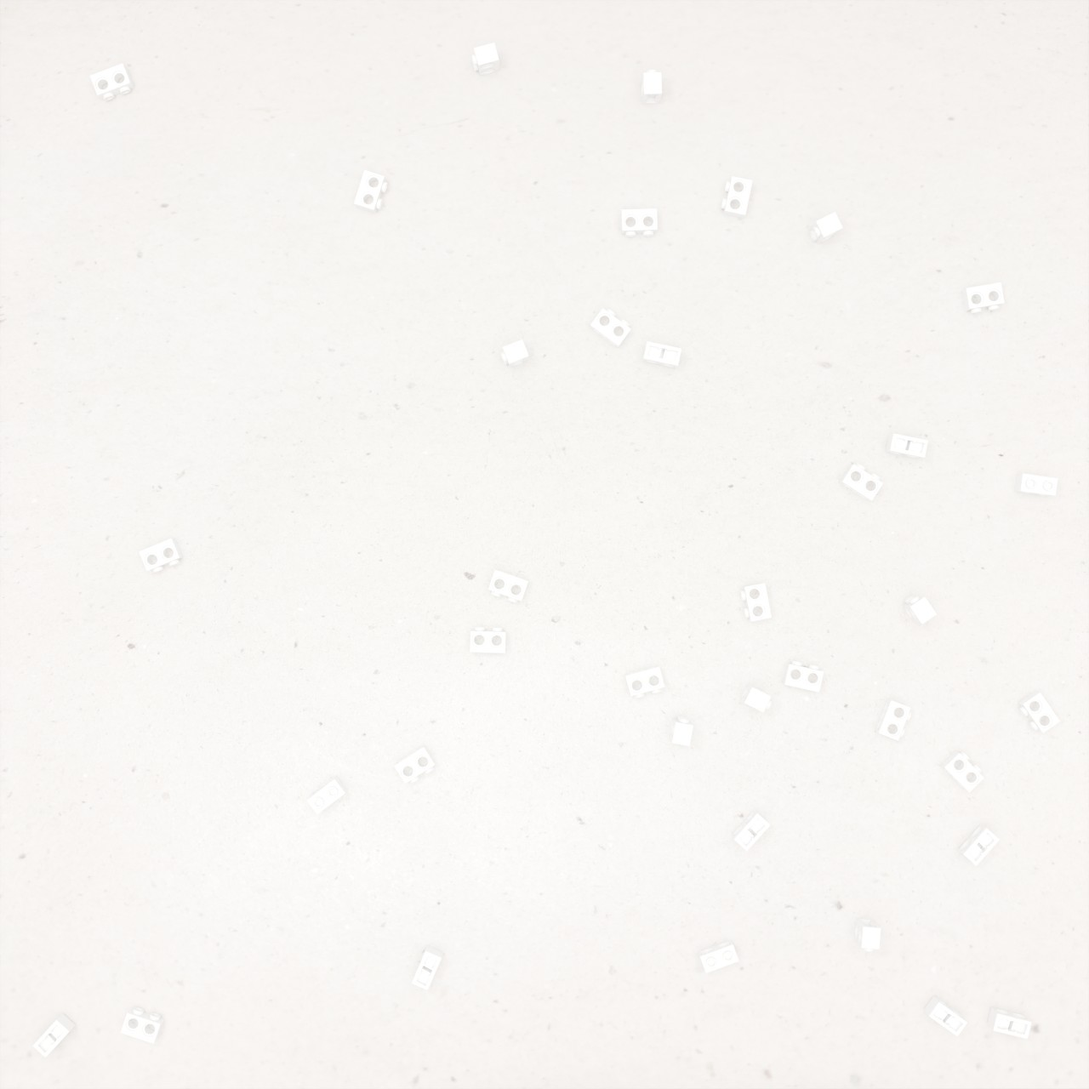lego: (32, 1013, 76, 1058), (940, 750, 984, 793), (924, 996, 968, 1037), (1018, 691, 1060, 733), (958, 824, 1000, 866), (90, 63, 135, 101), (839, 463, 883, 501), (120, 1007, 165, 1044), (590, 308, 631, 348), (731, 810, 771, 851), (394, 745, 436, 784), (306, 776, 348, 815), (139, 538, 184, 573), (875, 698, 911, 741), (354, 170, 388, 214), (411, 945, 443, 991), (987, 1007, 1032, 1039), (488, 569, 529, 603), (698, 939, 739, 973), (721, 176, 753, 219), (961, 282, 1004, 314), (624, 665, 665, 698), (782, 660, 824, 692), (740, 583, 772, 622), (885, 433, 928, 459), (809, 212, 843, 244), (642, 341, 682, 368), (621, 208, 658, 237), (902, 595, 937, 624), (1014, 473, 1058, 496), (471, 42, 500, 76), (470, 627, 506, 653), (740, 684, 772, 713), (854, 918, 881, 952), (501, 339, 529, 368), (669, 716, 693, 746), (641, 70, 662, 104)
